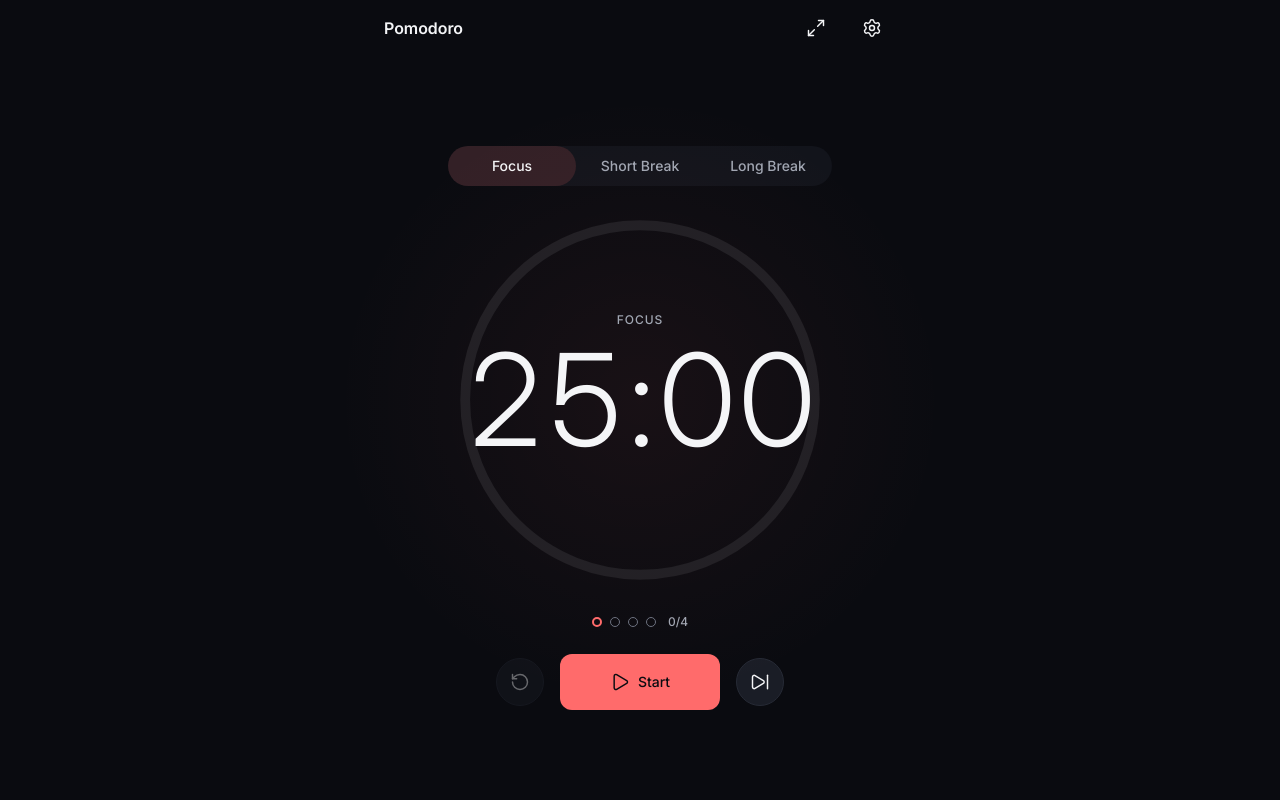
Test: SettingsSheet (POMO-AC11-POMO-AC13, POMO-AC24, POMO-AC26) › Save applies valid values to an idle phase, closes and returns focus (POMO-AC11)
Click the button named "Open settings". click: (872, 28)
box: [848,4,896,52]
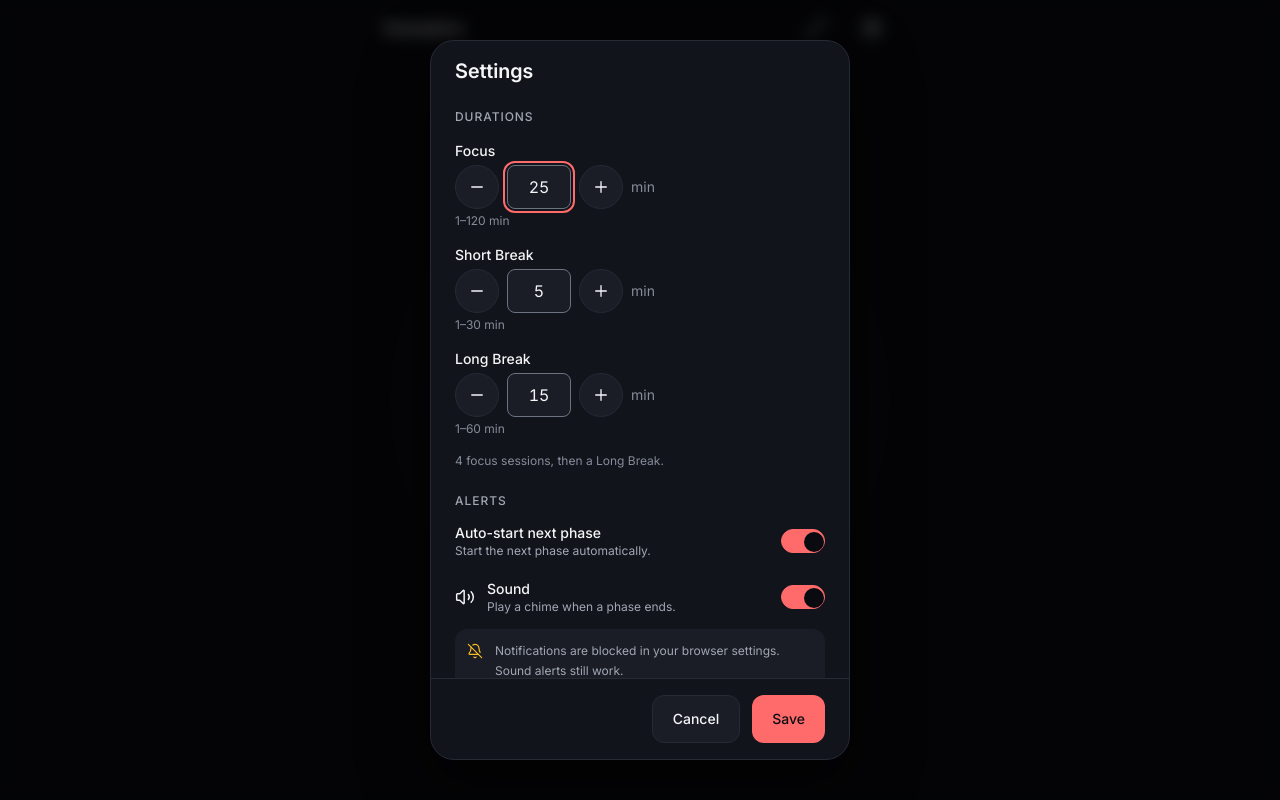
Replace the text in the field labelled "Focus" with "30". click: (539, 187)
box: [507,165,571,209]
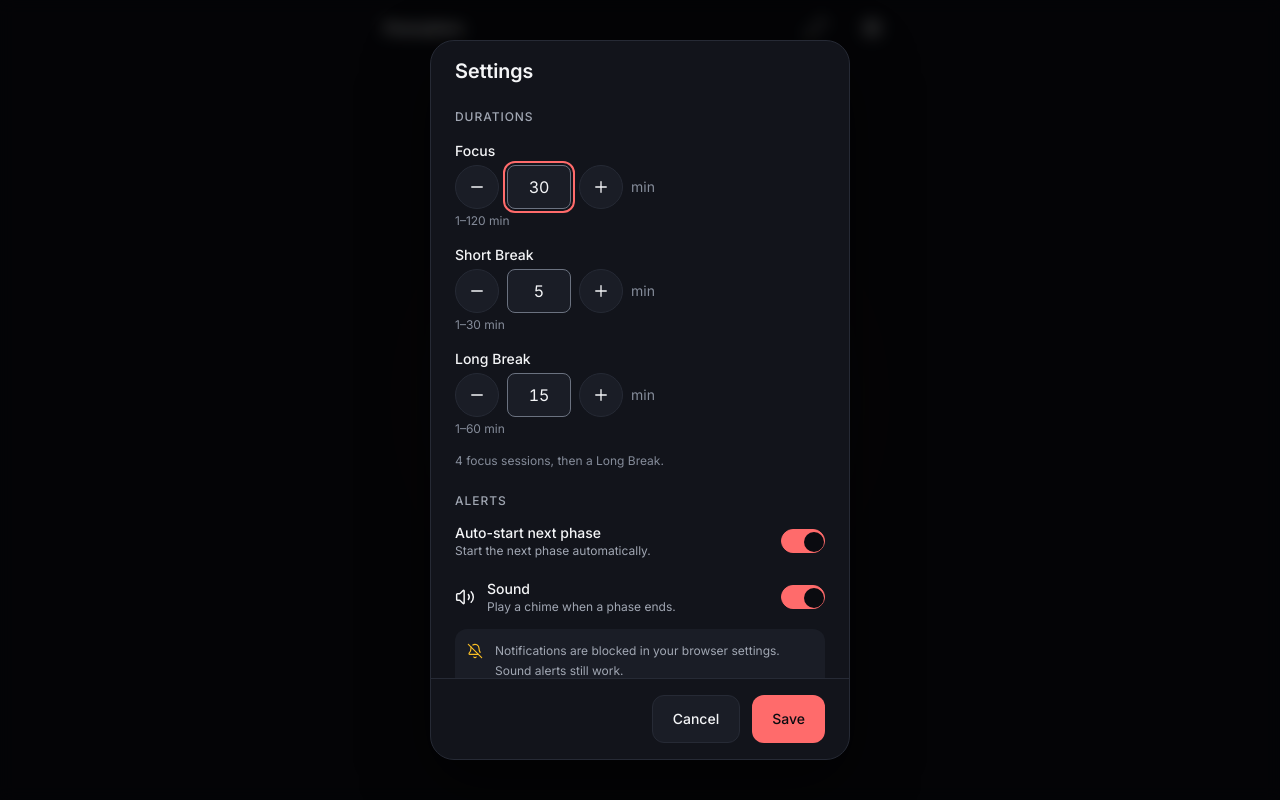
Click the switch labelled "Sound". click: (640, 597)
box: [455,573,825,621]
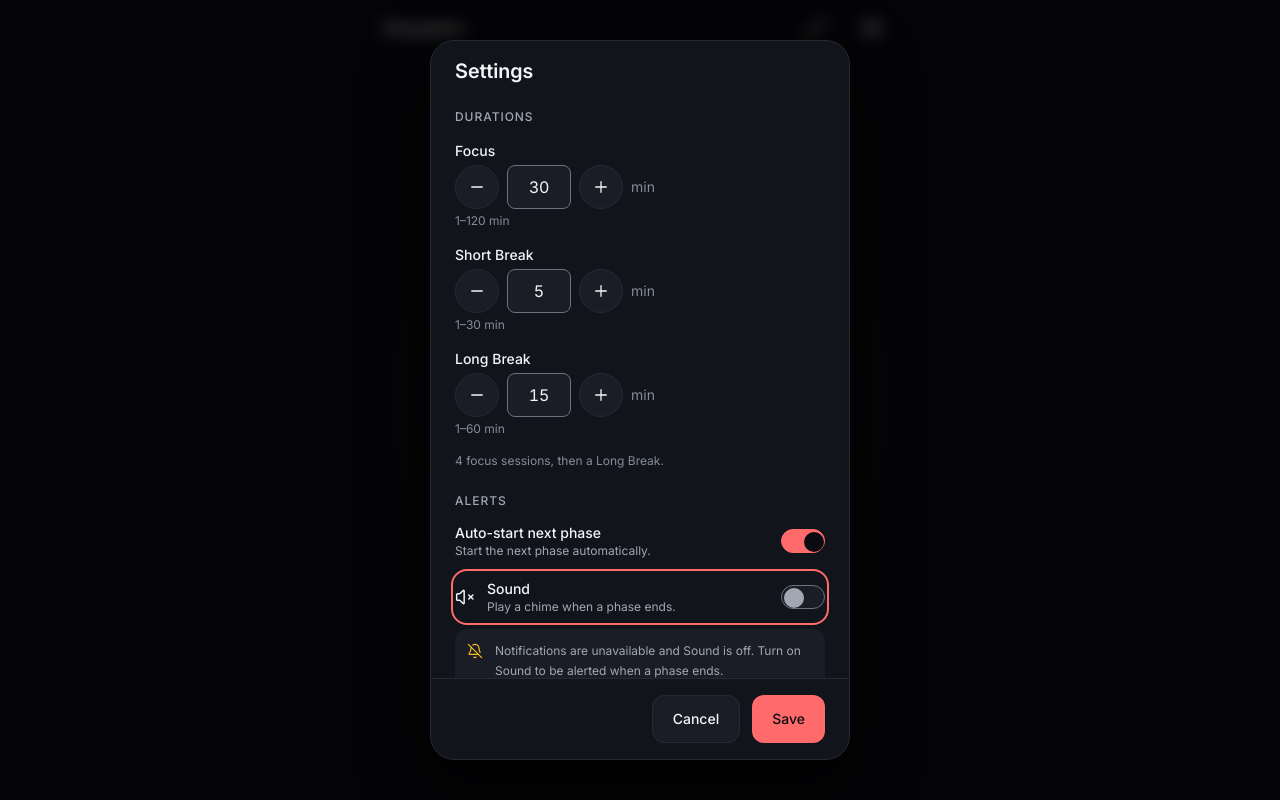
Click the button "Save". click: (789, 719)
box: [752,695,825,743]
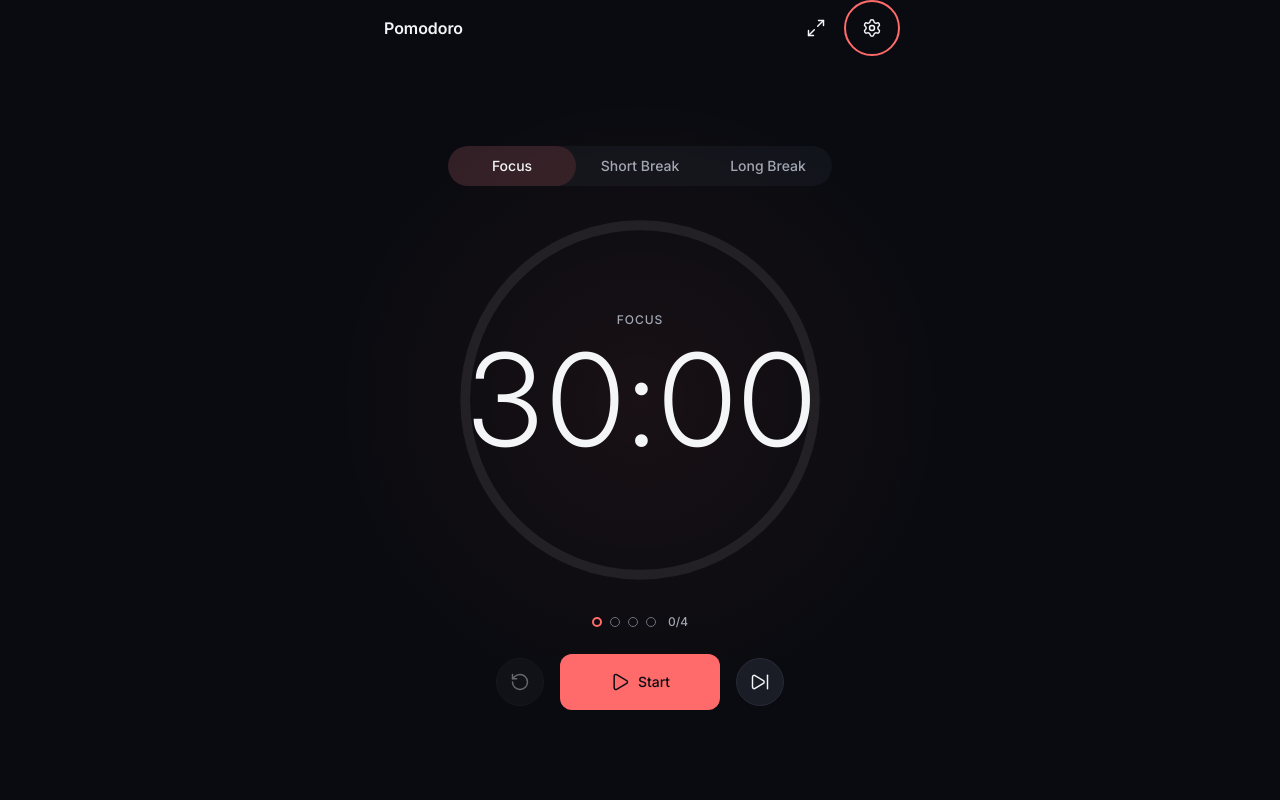
Expected: the dialog is gone
Expected: the text "30:00" is shown, [464,336,816,464]
